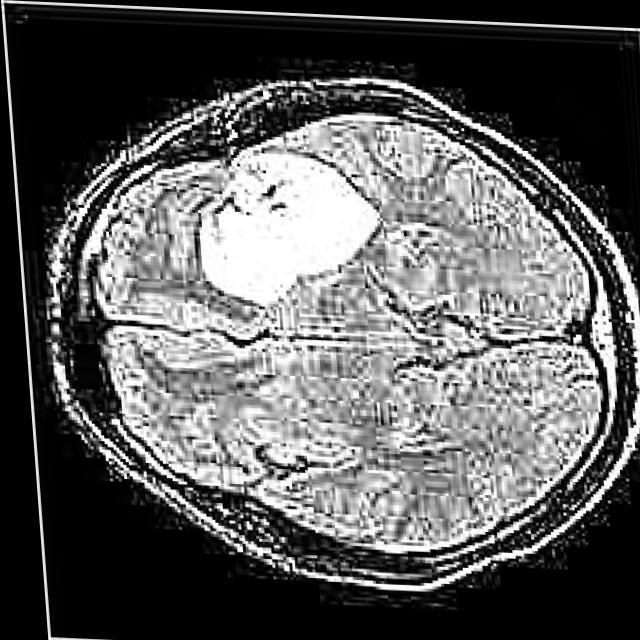Tumor: (194, 145, 379, 307)
